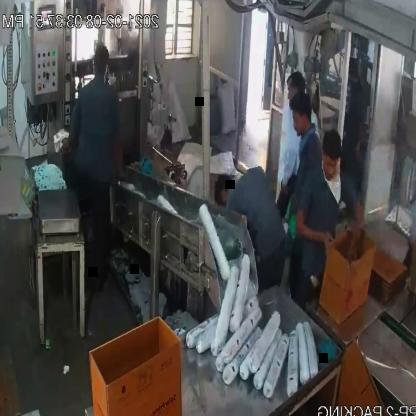no_glove: (288, 210, 337, 258), (342, 191, 370, 262)
